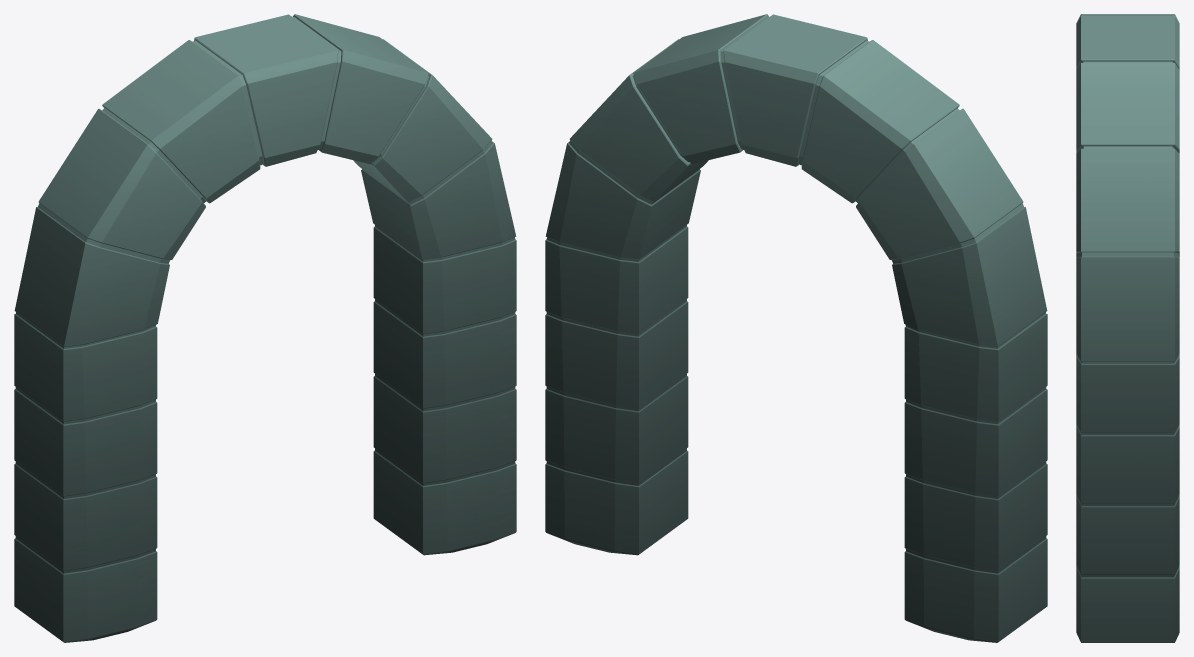
Rendered from FBX_Arch.fbx.
The picture shows the model from 3 angles, left to right: view 1: azimuth 30°, elevation 25°; view 2: azimuth 150°, elevation 25°; view 3: azimuth 270°, elevation 25°; orthographic projection. The views are drawn at different scales.
Parts seen in each view (by area): view 1: M_Arche; view 2: M_Arche; view 3: M_Arche.
Part boxes in pixels (x1=…): M_Arche: x1=14, y1=14, x2=516, y2=642; M_Arche: x1=545, y1=14, x2=1047, y2=642; M_Arche: x1=1076, y1=14, x2=1179, y2=642.
Size of the model in its own units: 2.2 by 2.46 by 0.4555.
